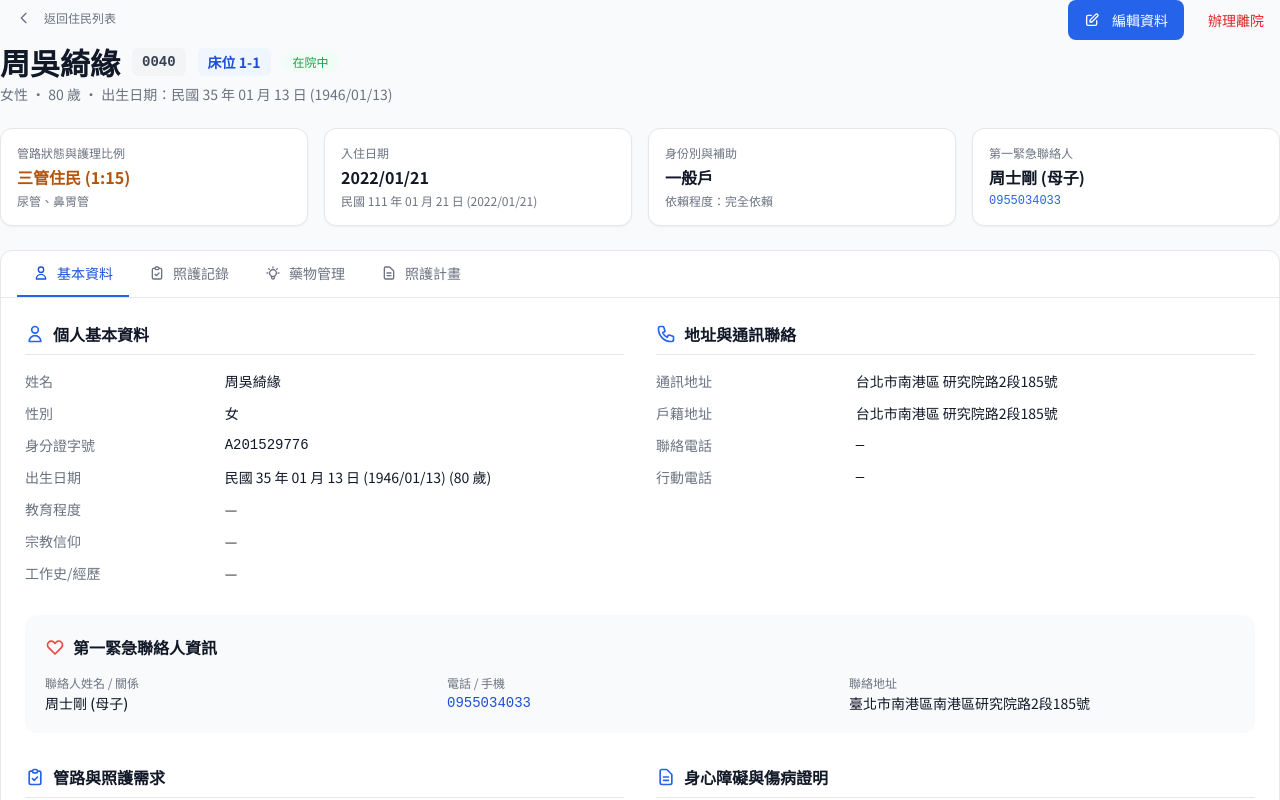
Test: ResidentDetailPage › opens deactivation modal when clicking deactivation button
Expected: the heading "周吳綺緣" is shown, x1=0 y1=44 x2=120 y2=80
Click the button "辦理離院": coordinates (1236, 20) x1=1192 y1=0 x2=1279 y2=40
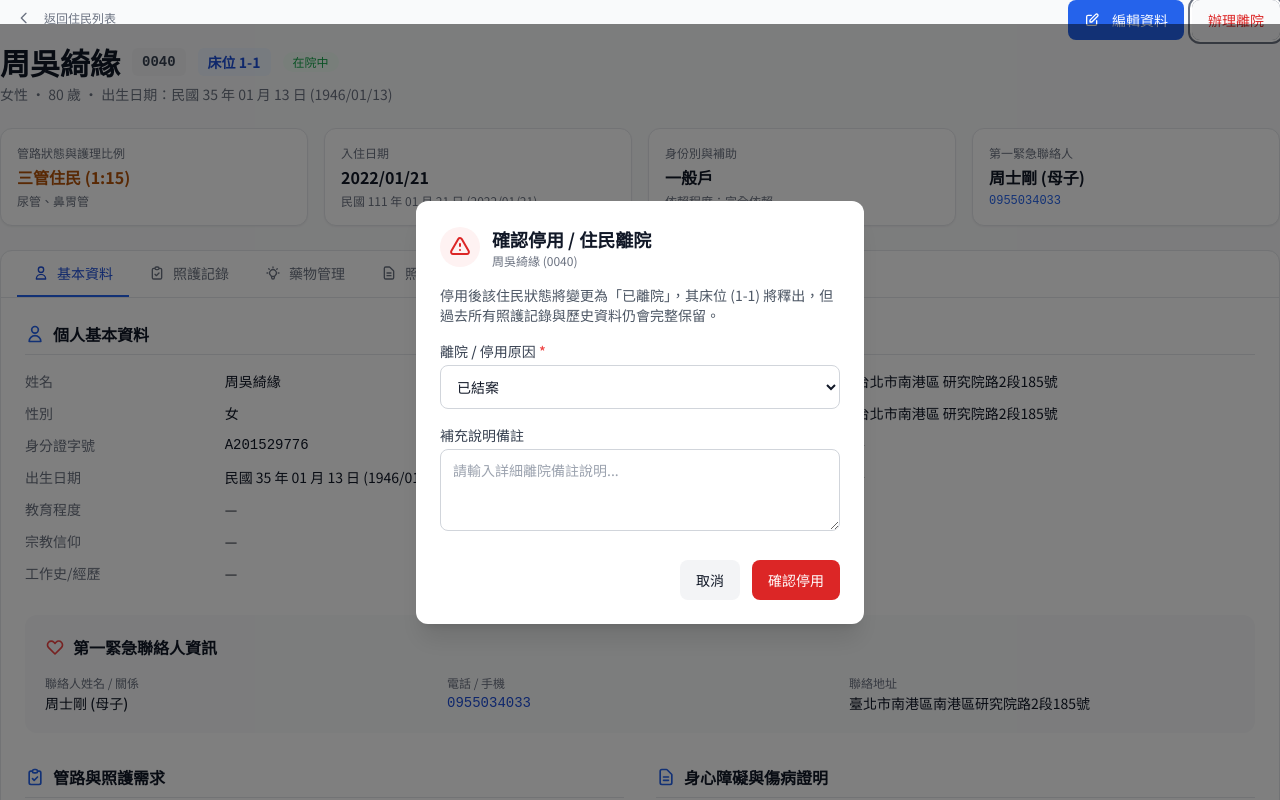
Expected: the heading "確認停用 / 住民離院" is shown, x1=492 y1=224 x2=651 y2=252
Expected: the dropdown labelled "離院 / 停用原因 *" is shown, x1=440 y1=364 x2=840 y2=408
